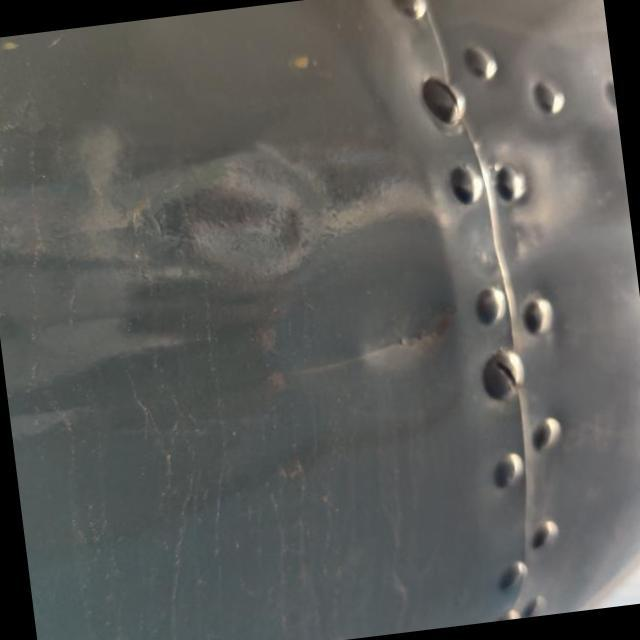Dent: (129, 156, 324, 322), (341, 284, 474, 396)
